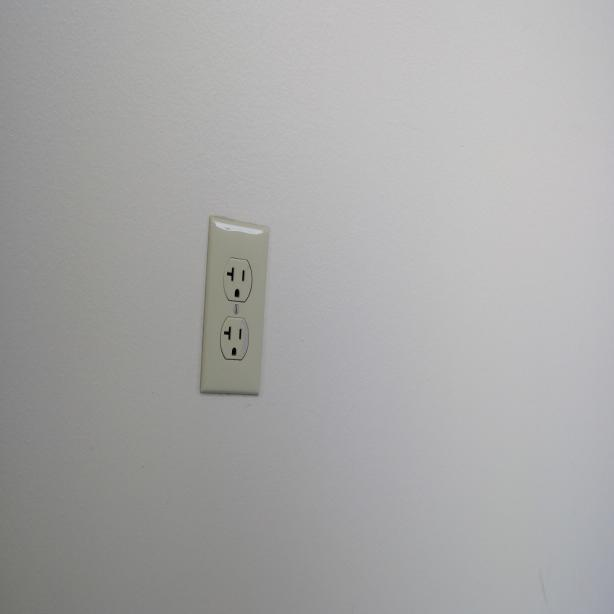typeb: (220, 318, 248, 361), (224, 258, 249, 301)
